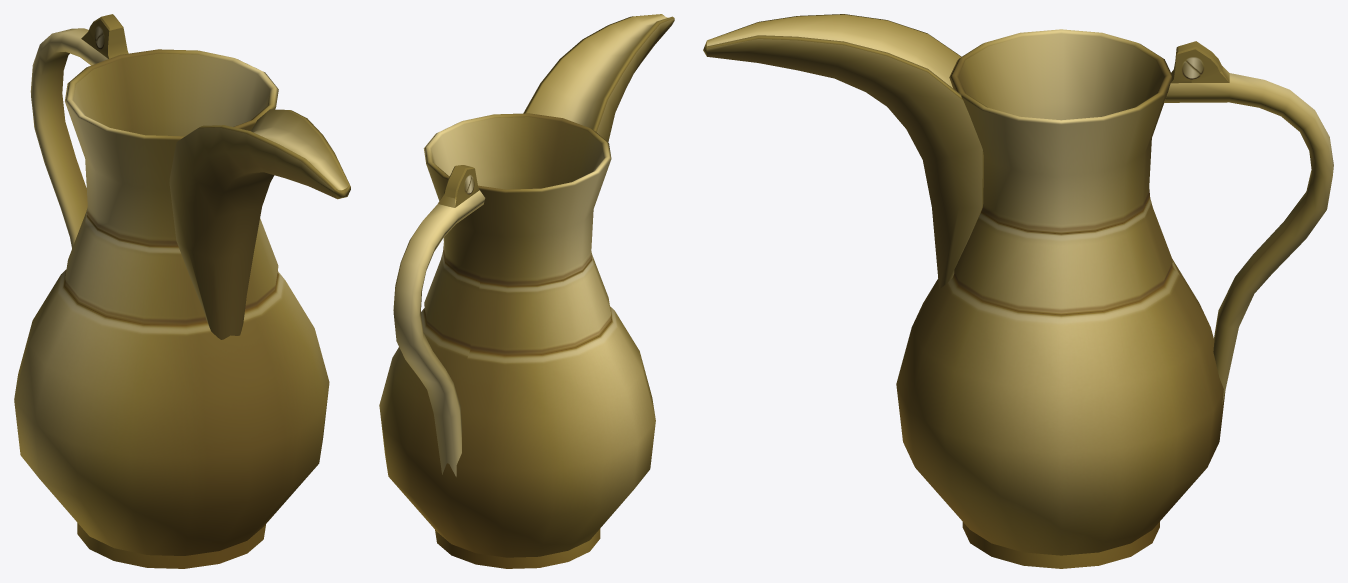
The model's file is Dallah_CoffeePot.fbx.
The picture shows the model from 3 angles, left to right: view 1: azimuth 30°, elevation 25°; view 2: azimuth 150°, elevation 25°; view 3: azimuth 270°, elevation 25°; orthographic projection. The views are drawn at different scales.
Visible parts, largest first — view 1: Dallah_CoffeePot; view 2: Dallah_CoffeePot; view 3: Dallah_CoffeePot.
Part boxes in pixels (box(x1,y1,x2,y2)): Dallah_CoffeePot: box(14, 14, 350, 568); Dallah_CoffeePot: box(379, 14, 674, 568); Dallah_CoffeePot: box(703, 14, 1333, 568).
Size of the model in its own units: 35.18 by 58.87 by 67.27.
